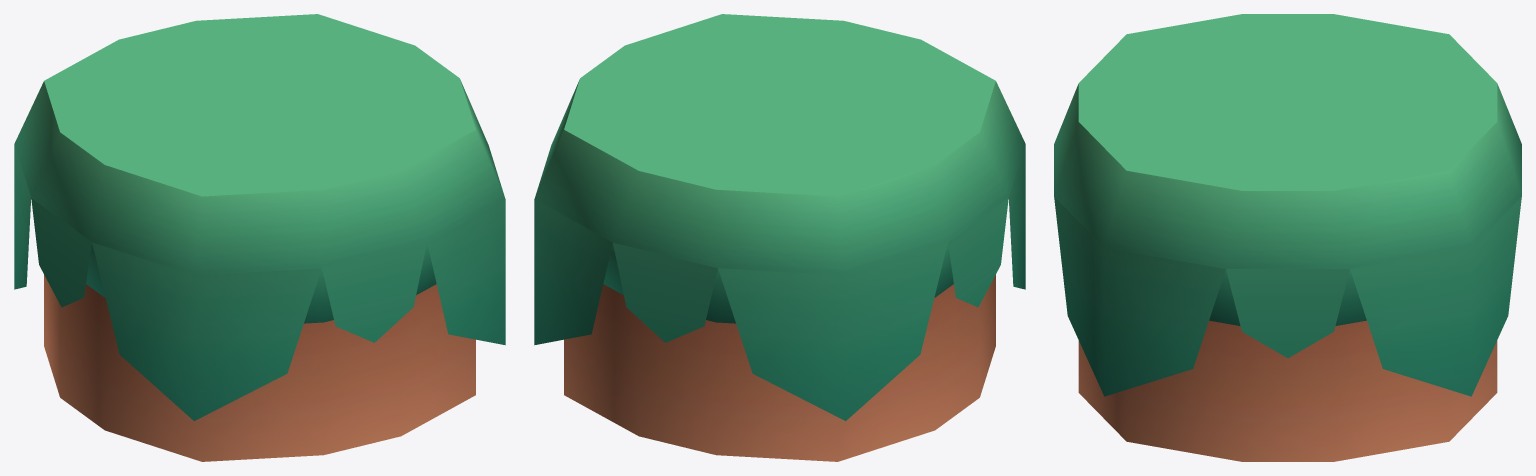
Rendered from kenney-platformer-block-grass-overhang-low-narrow.glb.
The picture shows the model from 3 angles, left to right: view 1: azimuth 30°, elevation 25°; view 2: azimuth 150°, elevation 25°; view 3: azimuth 270°, elevation 25°; orthographic projection. The views are drawn at different scales.
Parts seen in each view (by area): view 1: block-grass-overhang-low-narrow; view 2: block-grass-overhang-low-narrow; view 3: block-grass-overhang-low-narrow.
Boxes of the visible parts, x1,y1,x2,y2 form: block-grass-overhang-low-narrow: (14,14,505,461); block-grass-overhang-low-narrow: (534,14,1025,461); block-grass-overhang-low-narrow: (1054,14,1521,461).
Bounding box in the file's own units: 0.7821 × 0.5 × 0.7821.
1 material, 1 textured.
